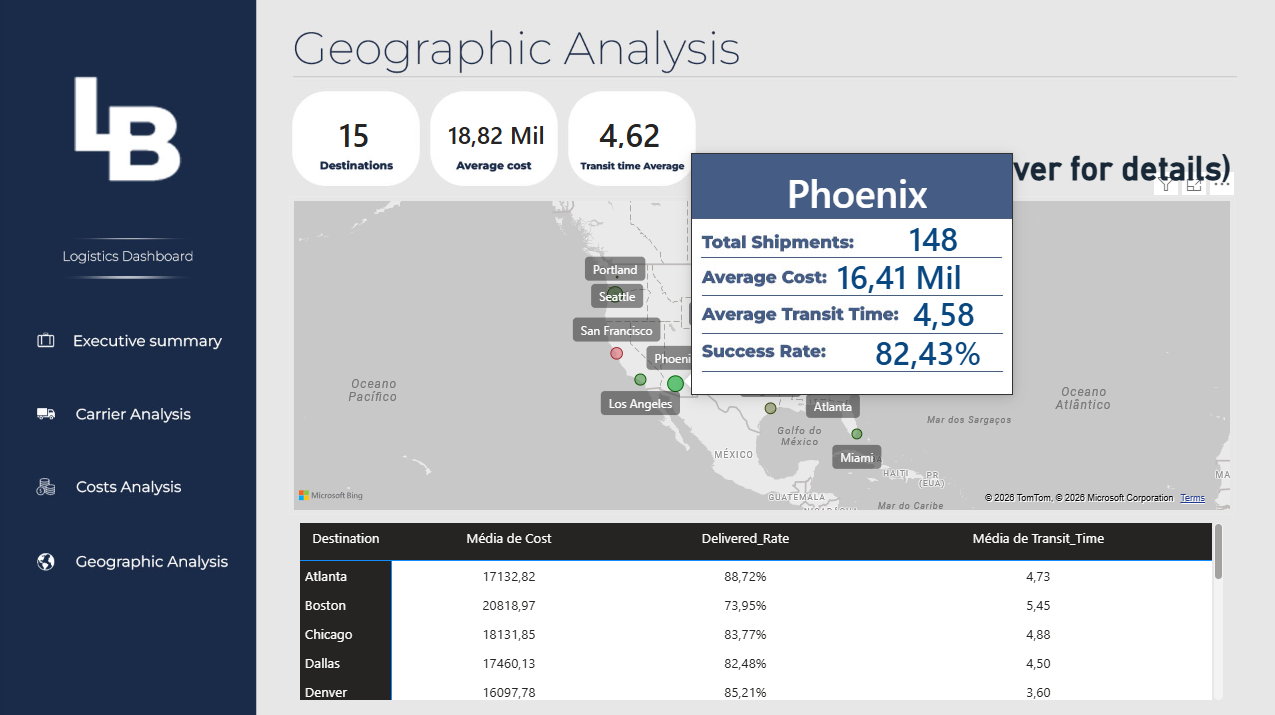

The dashboard page shown, as its layout file describes it:
{"tool":"powerbi","page":{"name":"Geographic Analysis","canvas":[1280,720],"ordinal":3},"visuals":[{"type":"map","fields":{"Category":["logistics_shipments_dataset.Destination"],"Size":["CountNonNull(logistics_shipments_dataset.Shipment_ID)"]},"box":[290,197.8,945.6,318.9],"z":0},{"type":"cardVisual","fields":{"Data":["Count(logistics_shipments_dataset.Destination)"]},"box":[311.1,101.1,96.7,66.7],"z":1000},{"type":"cardVisual","fields":{"Data":["Avg(logistics_shipments_dataset.Transit_Time)"]},"box":[570.9,101.2,131.3,66.1],"z":2000},{"type":"cardVisual","fields":{"Data":["Avg(logistics_shipments_dataset.Cost)"]},"box":[420.2,94.3,191.6,80.7],"z":3000},{"type":"pivotTable","fields":{"Rows":["logistics_shipments_dataset.Destination"],"Values":["Avg(logistics_shipments_dataset.Cost)","logistics_shipments_dataset.Delivered_Rate","Avg(logistics_shipments_dataset.Transit_Time)"]},"box":[295.6,520,933.3,186.7],"z":4000},{"type":"pageNavigator","box":[21,317,218,50],"z":5000},{"type":"pageNavigator","box":[21,388,218,50],"z":6000},{"type":"pageNavigator","box":[21.1,466.7,217.8,50],"z":7000},{"type":"textbox","box":[716.7,145.6,518.9,158.9],"z":7001}]}

Visuals, with their boxes on the page's 1280x720 design canvas (x1, y1, x2, y2). These are canvas units, not pixel positions in the 1275x715 screenshot, which may show the page scaled, cropped or inside an application window:
map - logistics_shipments_dataset.Destination x CountNonNull(logistics_shipments_dataset.Shipment_ID): [x1=290, y1=198, x2=1236, y2=517]
cardVisual - Count(logistics_shipments_dataset.Destination): [x1=311, y1=101, x2=408, y2=168]
cardVisual - Avg(logistics_shipments_dataset.Transit_Time): [x1=571, y1=101, x2=702, y2=167]
cardVisual - Avg(logistics_shipments_dataset.Cost): [x1=420, y1=94, x2=612, y2=175]
pivotTable - logistics_shipments_dataset.Destination x Avg(logistics_shipments_dataset.Cost): [x1=296, y1=520, x2=1229, y2=707]
pageNavigator: [x1=21, y1=317, x2=239, y2=367]
pageNavigator: [x1=21, y1=388, x2=239, y2=438]
pageNavigator: [x1=21, y1=467, x2=239, y2=517]
textbox: [x1=717, y1=146, x2=1236, y2=304]
